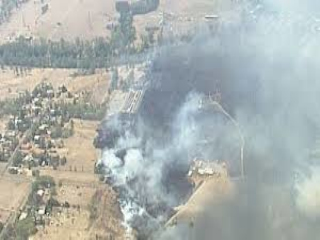smoke: (101, 94, 236, 222)
